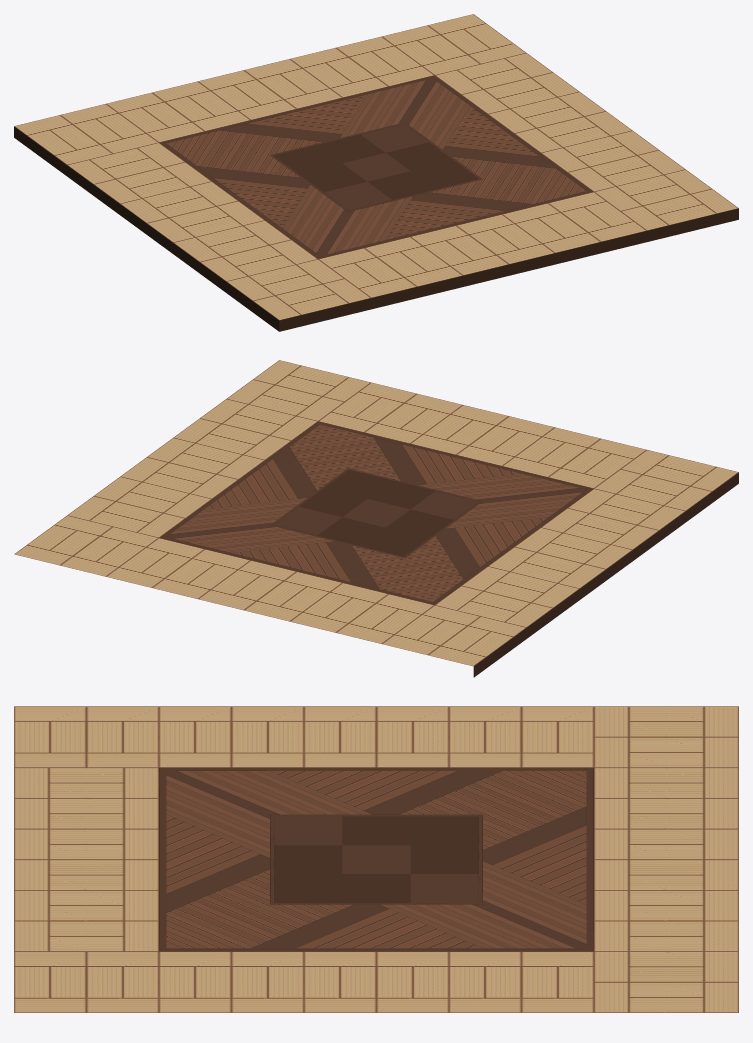
The model's file is my_hyakkiyako_01_tile_20x20.glb.
The picture shows the model from 3 angles, top to bottom: view 1: azimuth 30°, elevation 25°; view 2: azimuth 150°, elevation 25°; view 3: azimuth 270°, elevation 25°; orthographic projection. The views are drawn at different scales.
Visible parts, largest first — view 1: my_hyakkiyako_01_tile_20x20; view 2: my_hyakkiyako_01_tile_20x20; view 3: my_hyakkiyako_01_tile_20x20.
Part boxes in pixels (x1,y1,x2,y2): my_hyakkiyako_01_tile_20x20: (14,14,738,331); my_hyakkiyako_01_tile_20x20: (14,360,738,677); my_hyakkiyako_01_tile_20x20: (14,706,738,1012).
Bounding box in the file's own units: 0.12 × 0.00285 × 0.12.
Materials: 1 (1 with a texture image).
